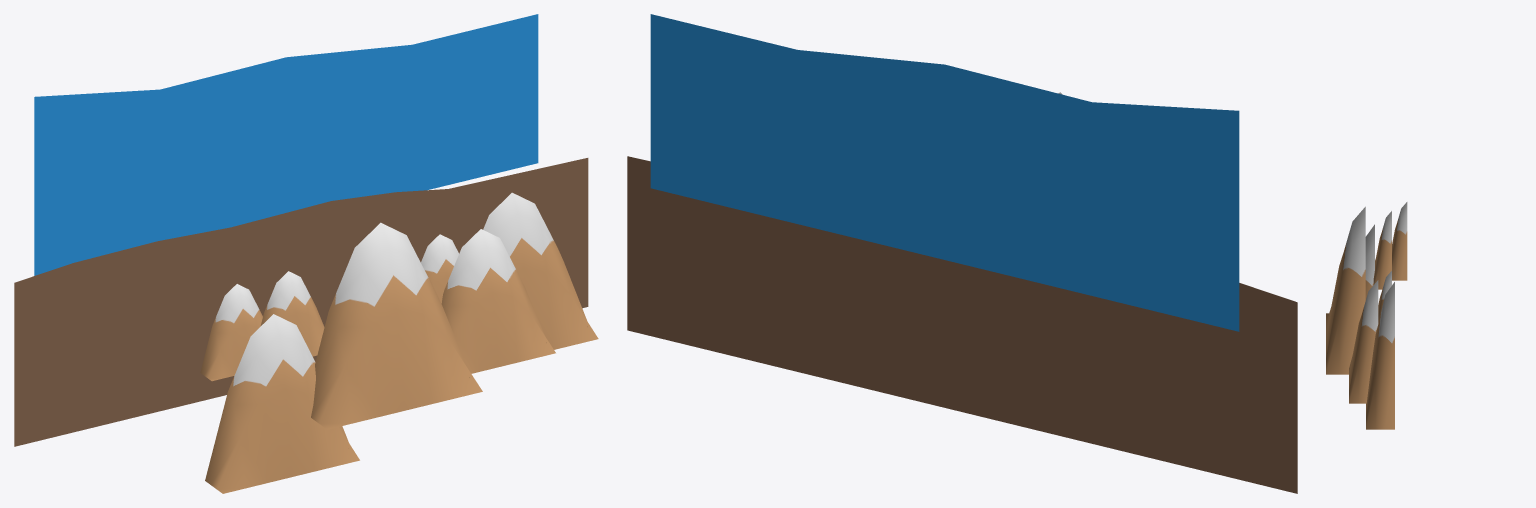
File: Full_Scene.FBX
The picture shows the model from 3 angles, left to right: view 1: azimuth 30°, elevation 25°; view 2: azimuth 150°, elevation 25°; view 3: azimuth 270°, elevation 25°; orthographic projection. The views are drawn at different scales.
Parts seen in each view (by area): view 1: Plane002, Plane001, Plane004, Plane010, Plane006, Plane007, Plane009, Plane008, Plane005; view 2: Plane002, Plane001; view 3: Plane004, Plane007, Plane006, Plane009, Plane008, Plane010, Plane005.
Boxes of the visible parts, x1,y1,x2,y2 form: Plane002: [34, 14, 538, 275]; Plane001: [14, 158, 588, 446]; Plane004: [311, 222, 482, 429]; Plane010: [205, 314, 359, 493]; Plane006: [441, 229, 555, 373]; Plane007: [483, 192, 598, 349]; Plane009: [200, 284, 262, 381]; Plane008: [260, 271, 324, 356]; Plane005: [421, 234, 458, 303]; Plane002: [650, 14, 1239, 331]; Plane001: [627, 156, 1297, 493]; Plane004: [1326, 206, 1365, 374]; Plane007: [1366, 282, 1394, 429]; Plane006: [1349, 280, 1378, 403]; Plane009: [1392, 202, 1407, 280]; Plane008: [1373, 211, 1391, 289]; Plane010: [1365, 224, 1374, 299]; Plane005: [1378, 271, 1391, 322].
Bounding box in the file's own units: 3910 × 2194 × 1429.
Materials: 3 (1 with a texture image).
